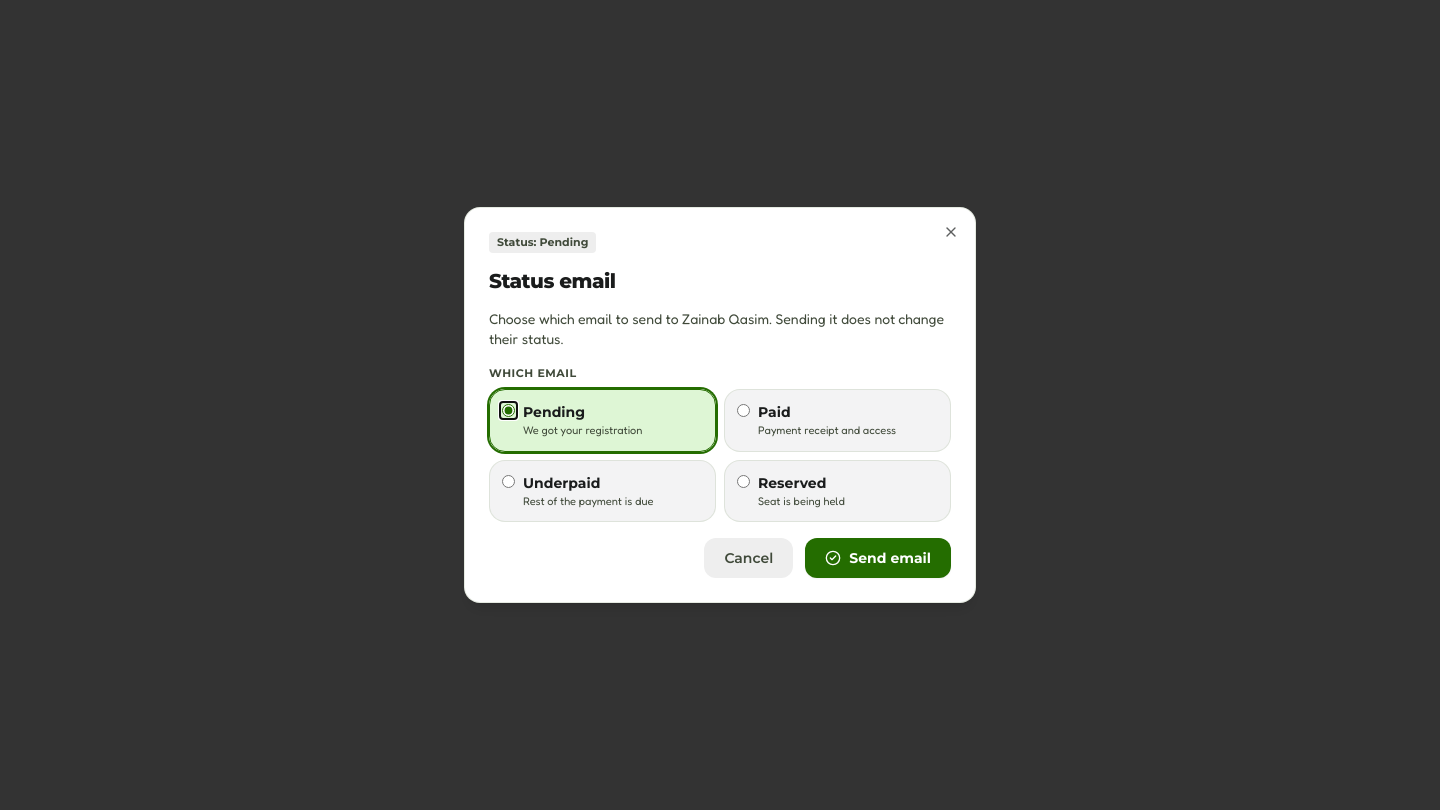
it: status email dialog › shows the server's plain error text
This screenshot has width=1440, height=810.
Click the button "Send email".
click(878, 558)  # box [805, 538, 951, 578]
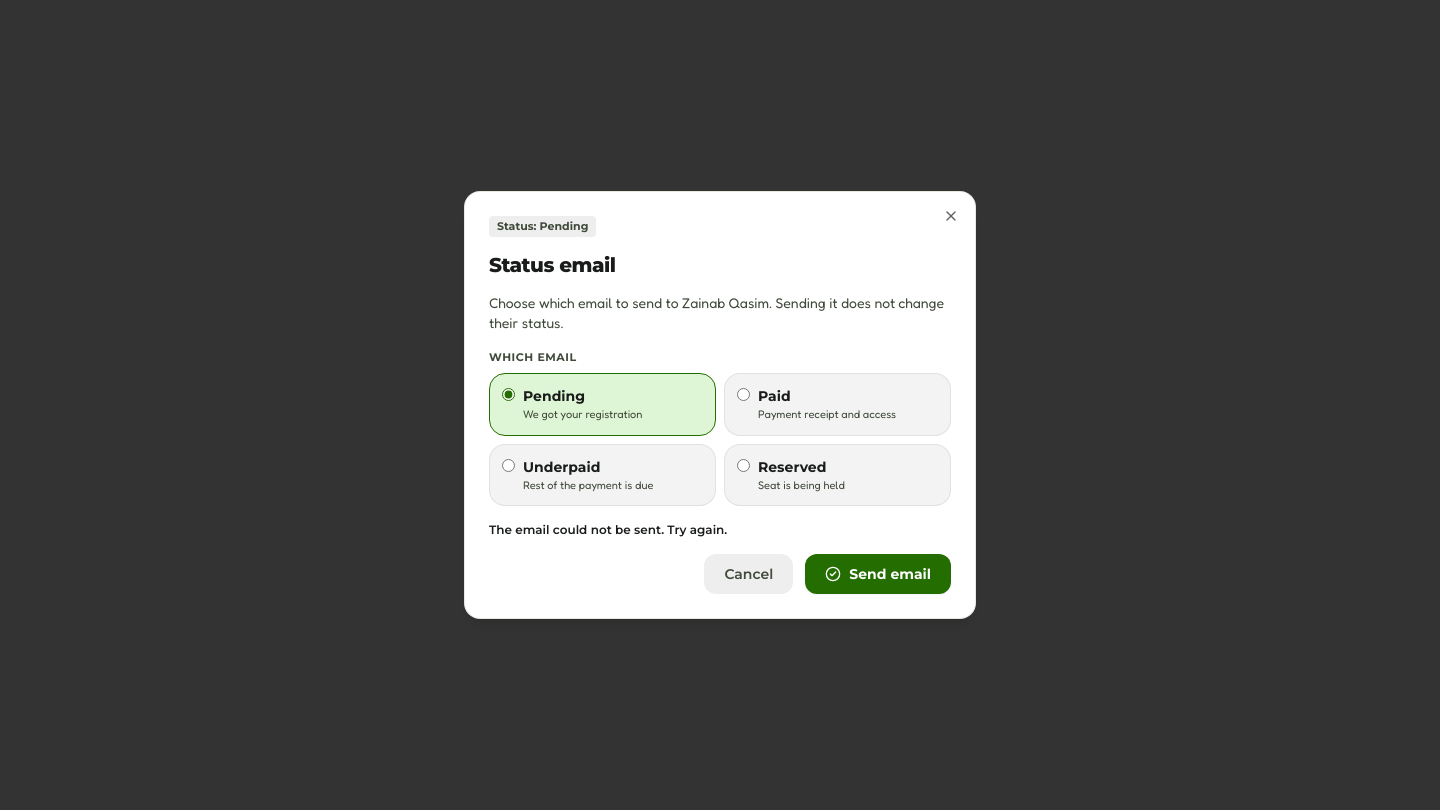
Expected: the message reads "The email could not be sent. Try again.", [489, 522, 727, 537]
